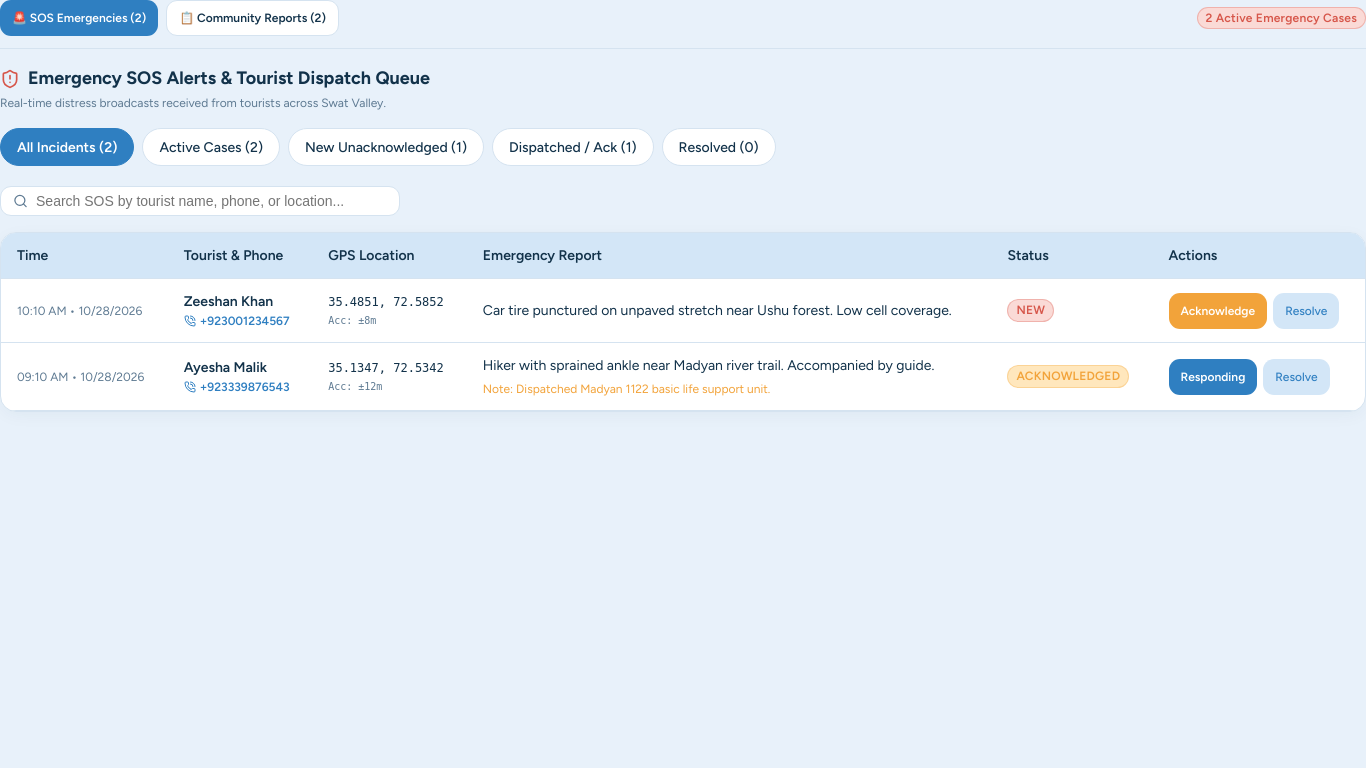
Test: Step 7: Community & Reports (Stories, Crafts, Reports, Host Applications, Authority Cases) › renders Authority Cases tab with Community Reports sub-tab and resolves report with notes
The image size is (1366, 768).
Switch to Community Reports sub-tab
Click the button with test id "subtab-reports".
click(252, 18)  # box [166,0,339,36]
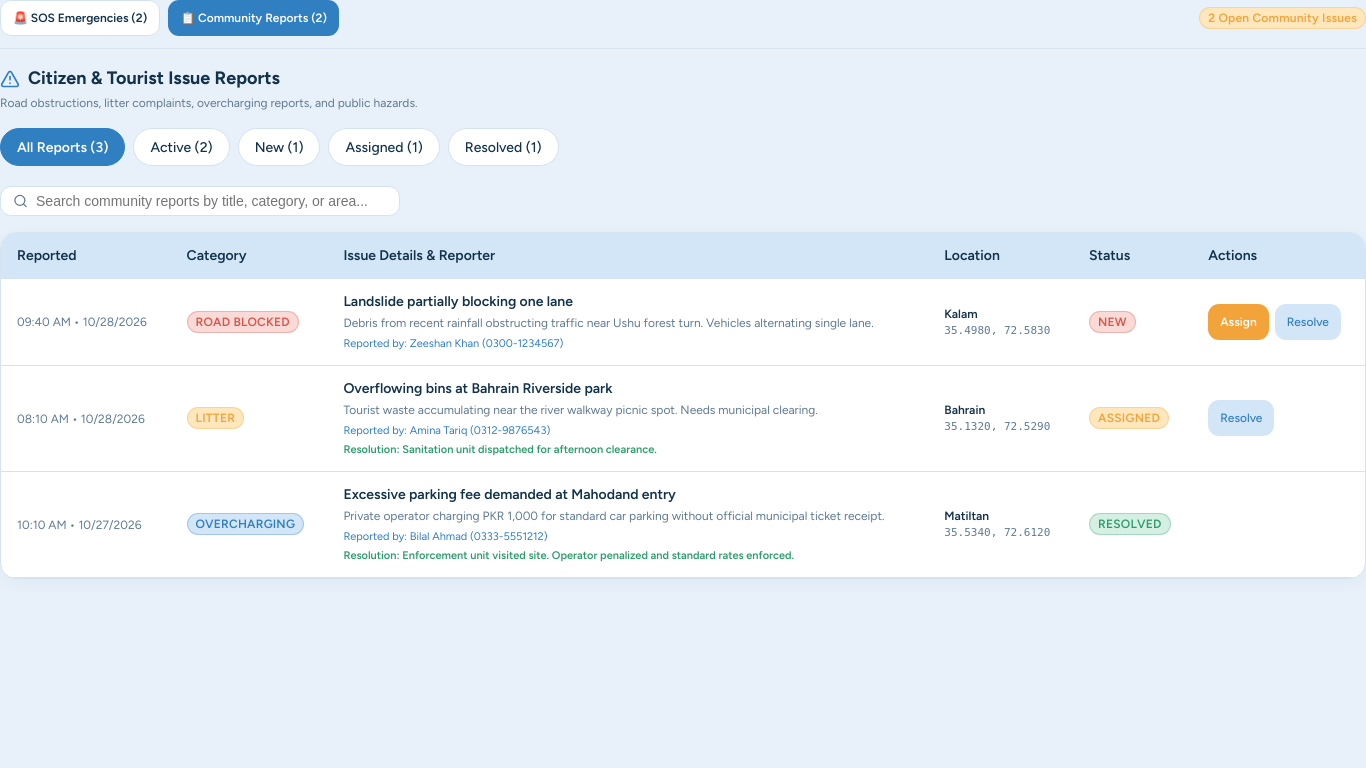
Expected: the heading "Citizen & Tourist Issue Reports" is shown, [0,67,280,89]
Expected: the text "Landslide partially blocking one lane" is shown, [343,293,573,310]
Click Assign on the new report
Click the button with test id "btn-assign-report-rep-demo-1".
click(1238, 322)  # box [1208,304,1269,340]
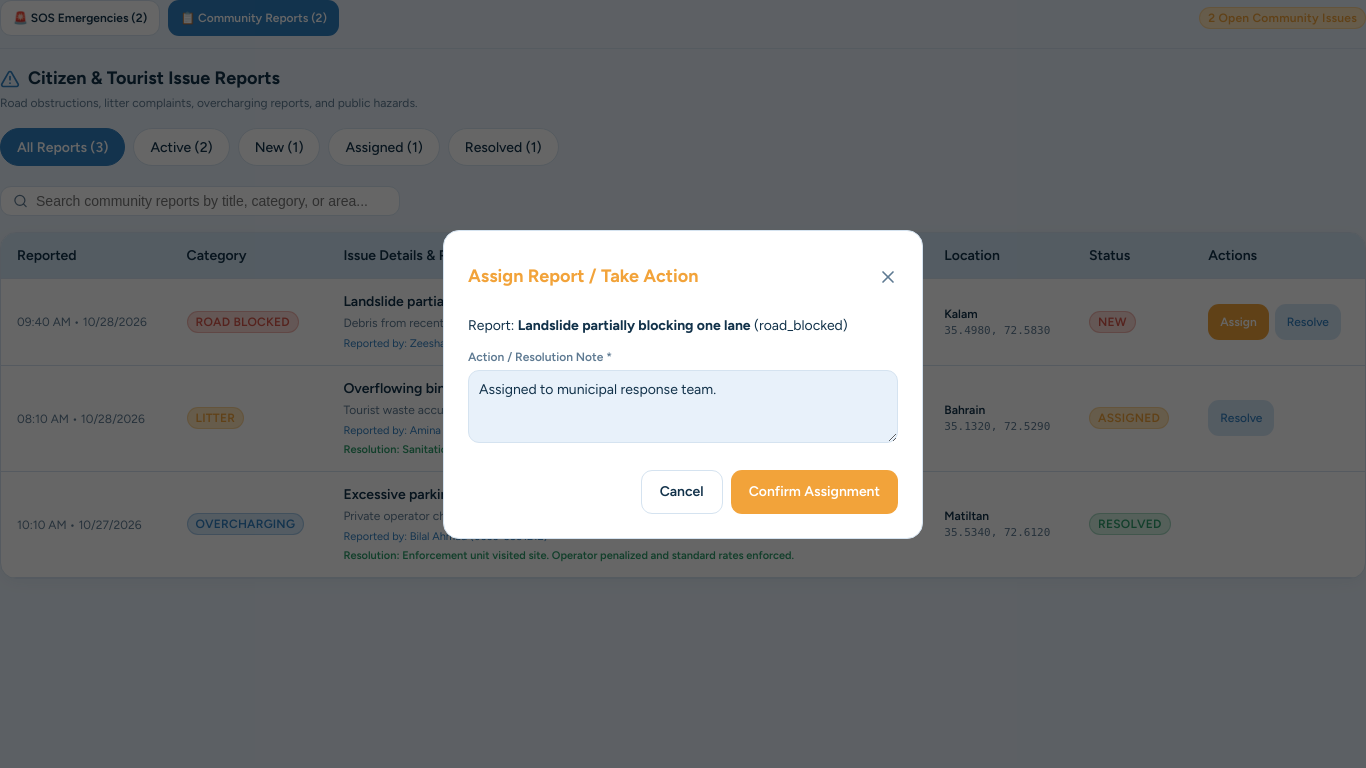
Expected: the element with test id "modal-report-action" is shown
Expected: the heading "Assign Report / Take Action" is shown, [468,263,698,290]
Fill assignment note and confirm
Replace the text in the text box with test id "input-report-action-note" with "Assigned to Swat District Highway clearance team." at (683, 406), box [468,370,898,442]
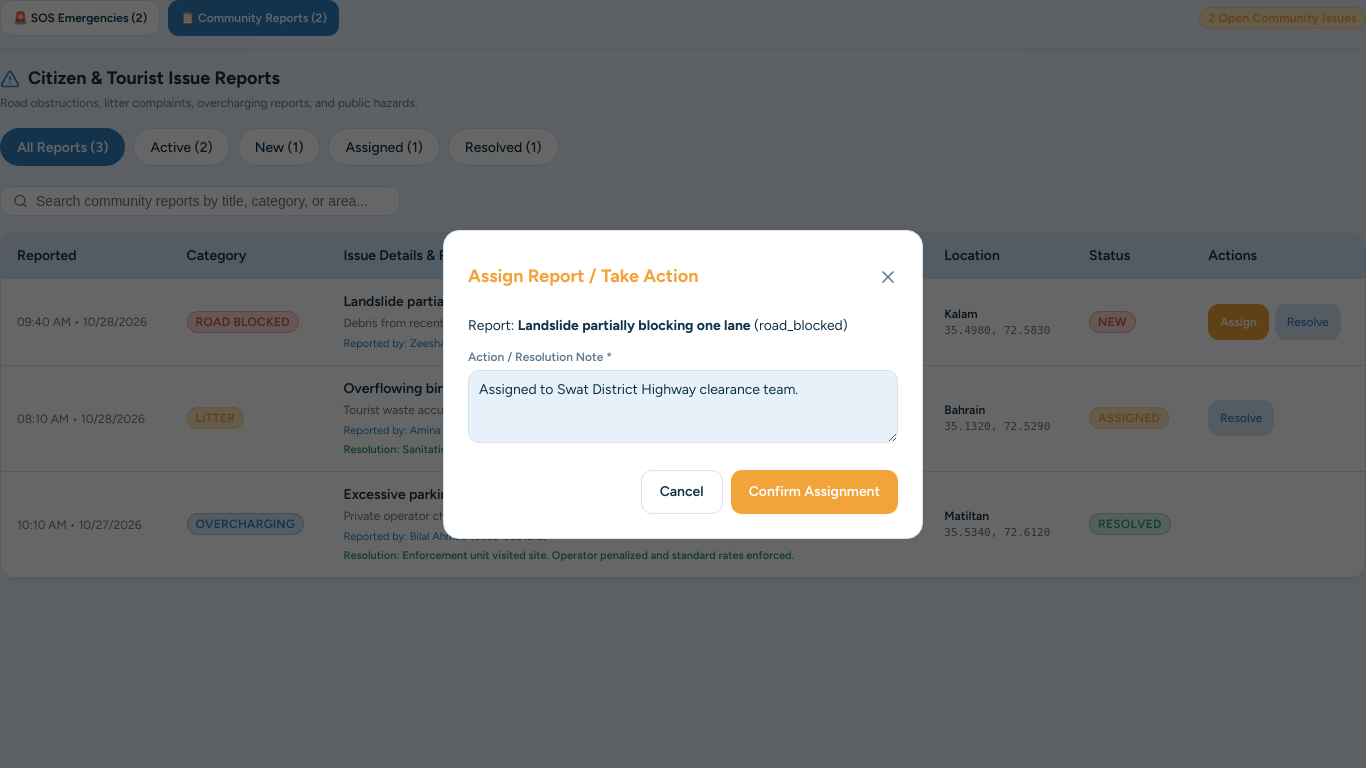
Click the button with test id "btn-confirm-report-action".
click(814, 492)  # box [731,470,898,514]
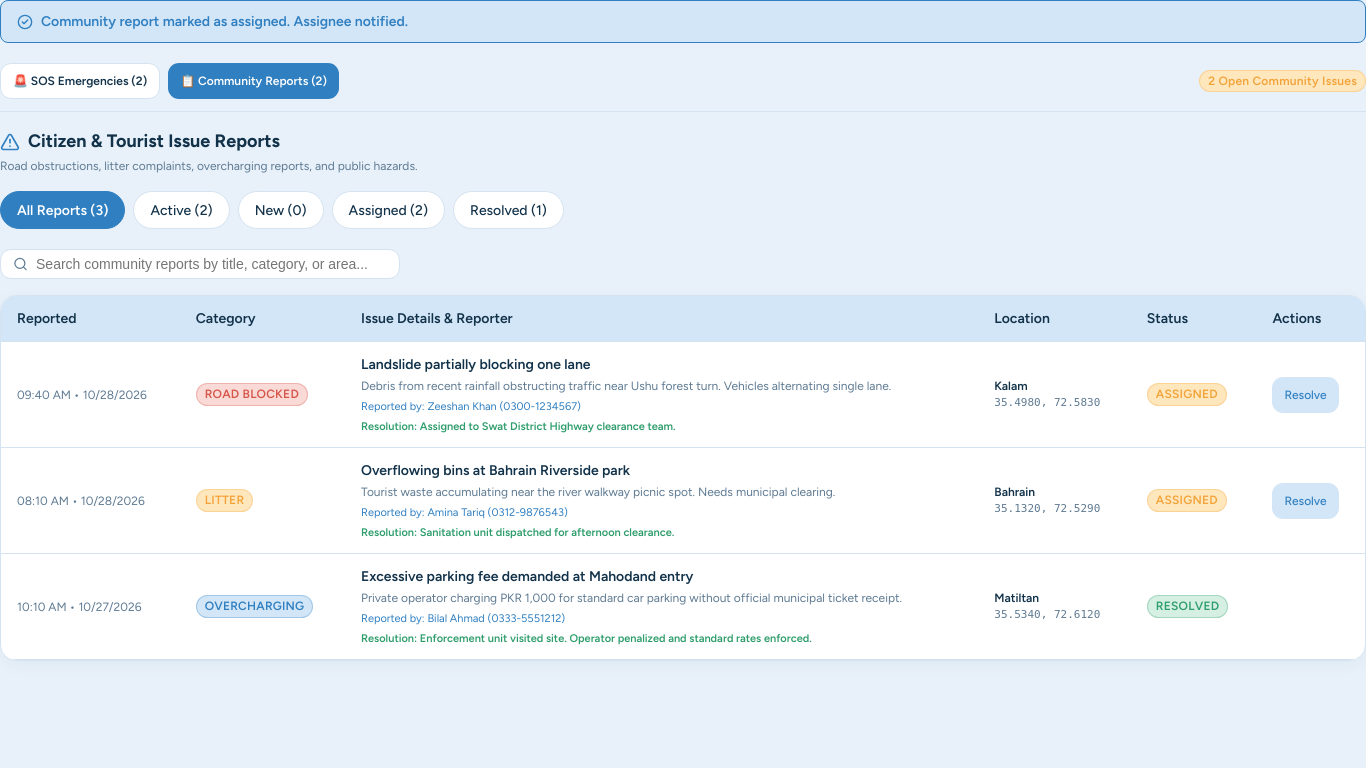
Expected: the text "Community report marked as assigned. Assignee notified." is shown, [0,0,1365,43]
